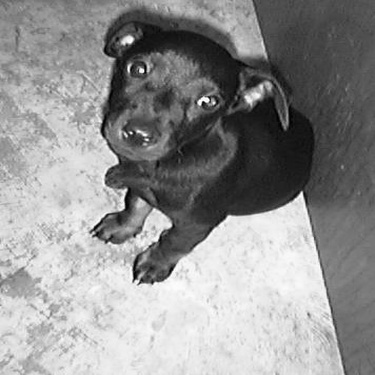dog: (77, 2, 322, 290)
